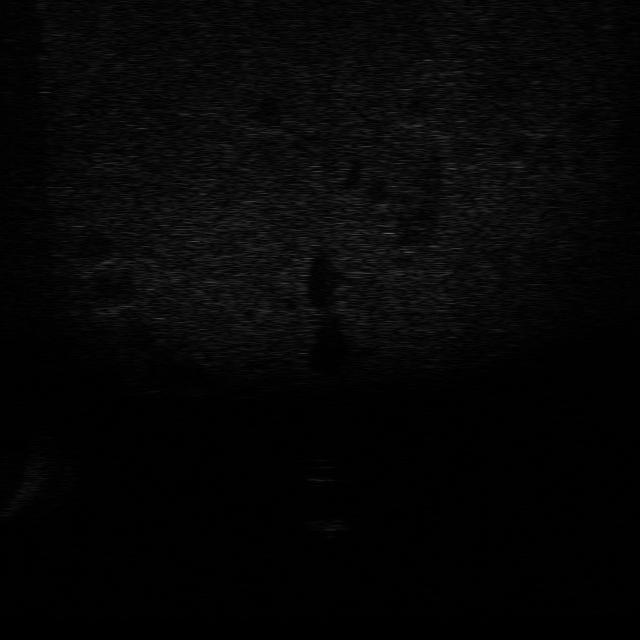ball: (292, 457, 340, 487)
square cage: (302, 512, 352, 542)
